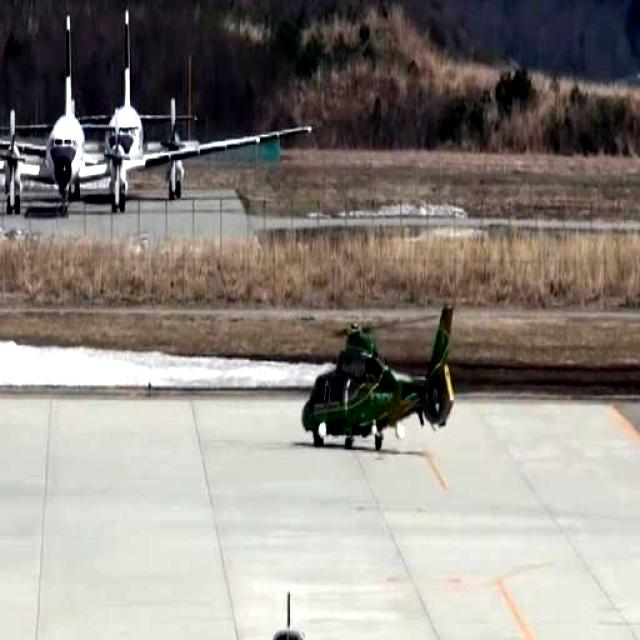drone: (298, 300, 461, 465)
